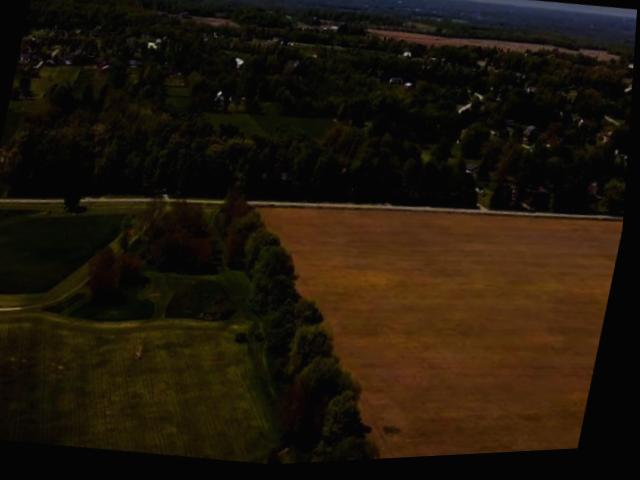iha: (168, 0, 397, 25)
